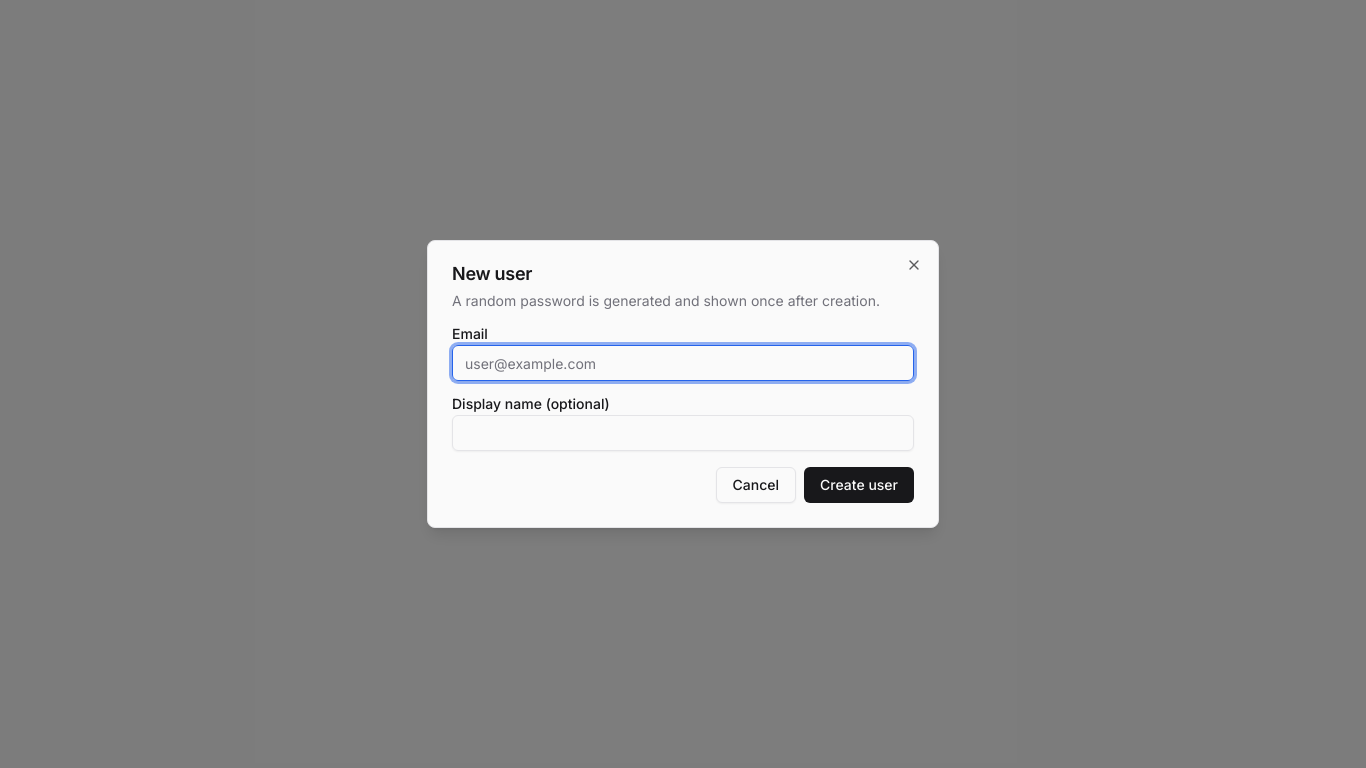
QuickCreateUserDialog › blocks submit when the email is not valid
Type "not-an-email" into the field labelled "Email" at (683, 363), box [452,345,914,381]
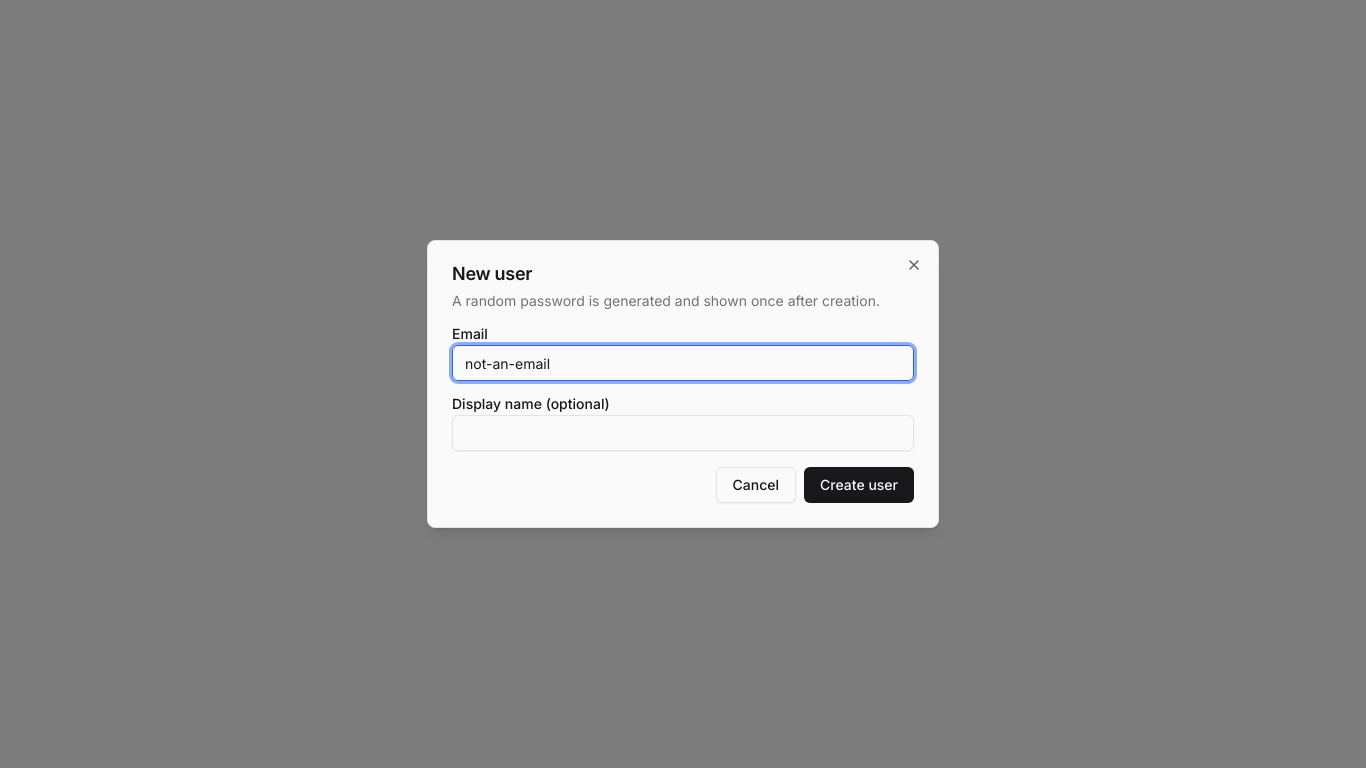
Click the button "Create user" at (859, 485), box [804,467,914,503]
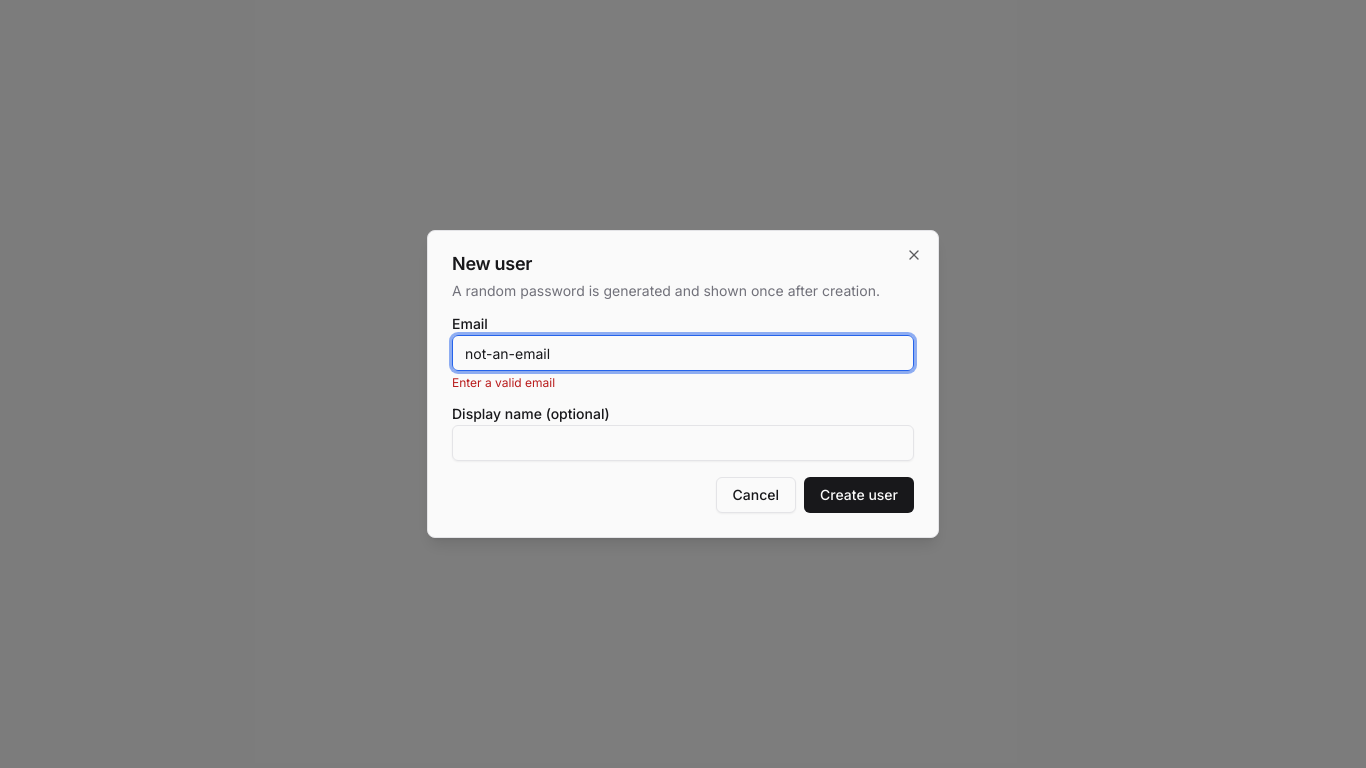
Check: the text "Enter a valid email" is shown, box [452,375,555,390]
